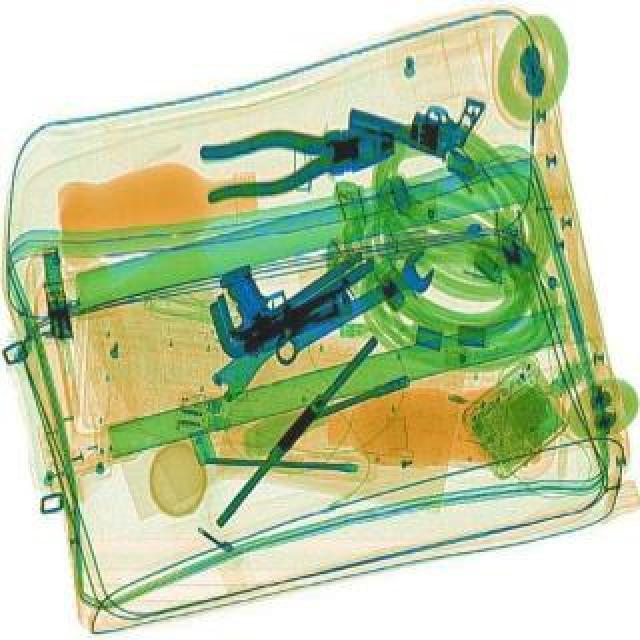gun: (208, 230, 356, 358), (340, 58, 488, 166)
scissors: (260, 244, 444, 368)
wrench: (196, 114, 400, 202)
